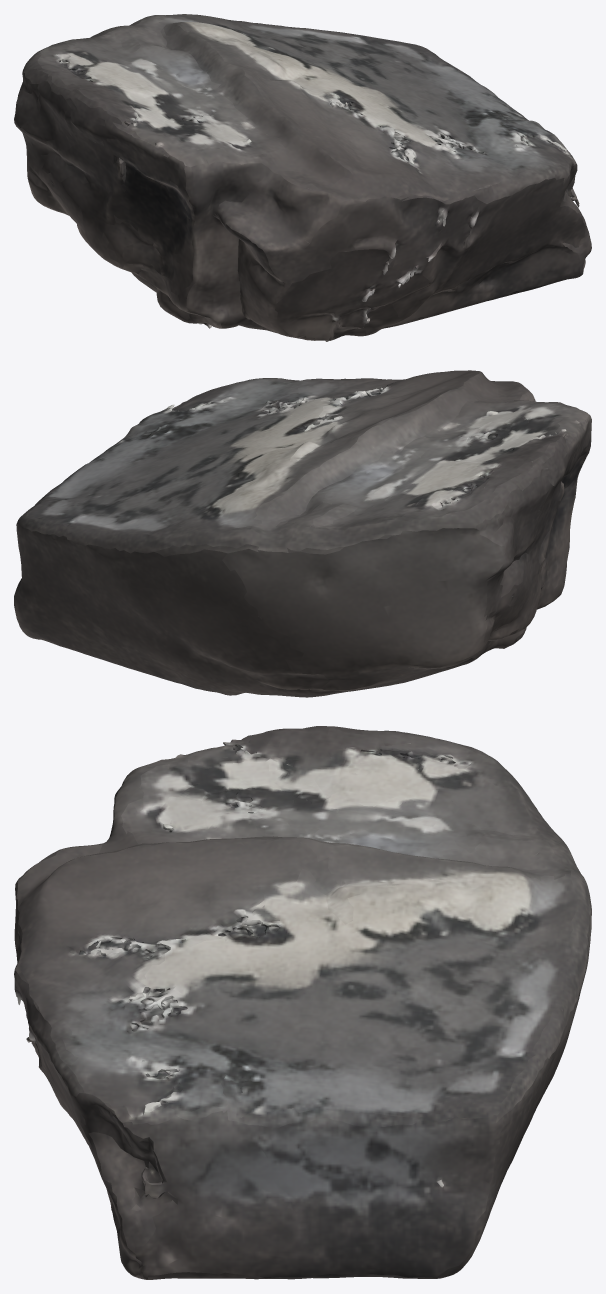
3 renders of one model, top to bottom at view 1: azimuth 30°, elevation 25°; view 2: azimuth 150°, elevation 25°; view 3: azimuth 270°, elevation 25°, orthographic. The views are drawn at different scales.
Parts seen in each view (by area): view 1: world; view 2: world; view 3: world.
Boxes of the visible parts, box(x1,y1,x2,y2) form: world: box(14, 14, 591, 341); world: box(14, 370, 591, 697); world: box(14, 726, 591, 1279).
Bounding box in the file's own units: 0.45 × 0.2201 × 0.394.
Materials: 1 (1 with a texture image).
